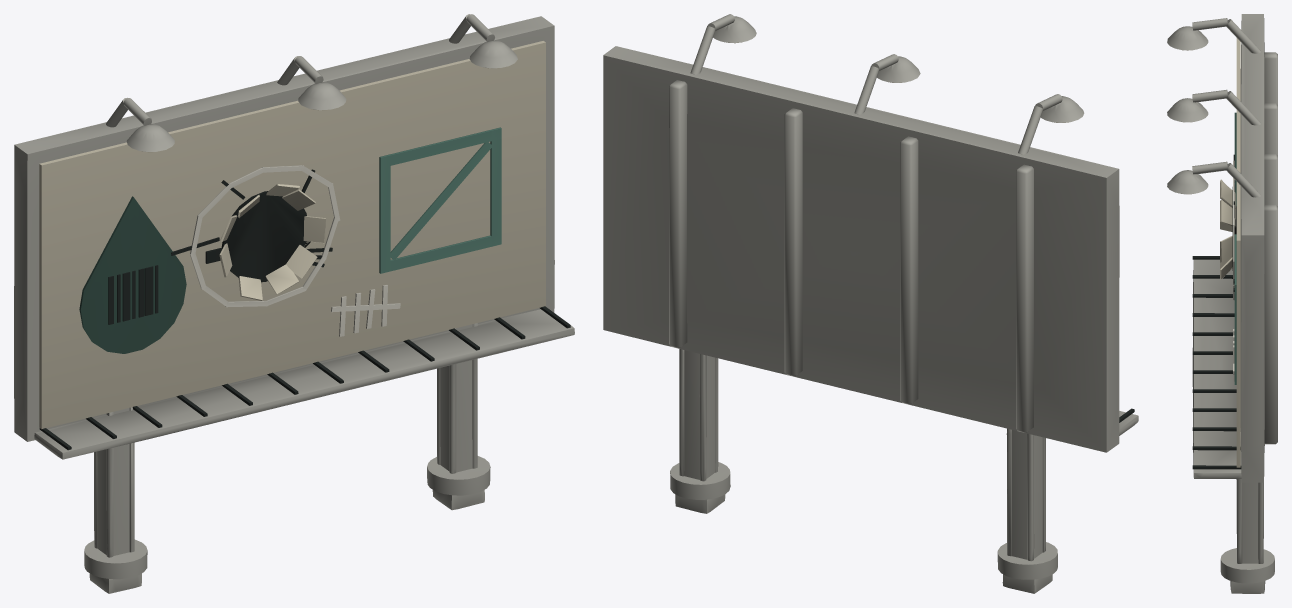
The model's file is foreman_billboard_a_lod1.glb.
3 renders of one model, left to right at view 1: azimuth 30°, elevation 25°; view 2: azimuth 150°, elevation 25°; view 3: azimuth 270°, elevation 25°, orthographic. The views are drawn at different scales.
Visible parts, largest first — view 1: Surface.001; view 2: Surface.001; view 3: Surface.001.
Boxes of the visible parts, x1,y1,x2,y2 form: Surface.001: (14,14,574,593); Surface.001: (603,14,1138,593); Surface.001: (1167,14,1277,593).
Bounding box in the file's own units: 10.5 × 9.38 × 2.21.
